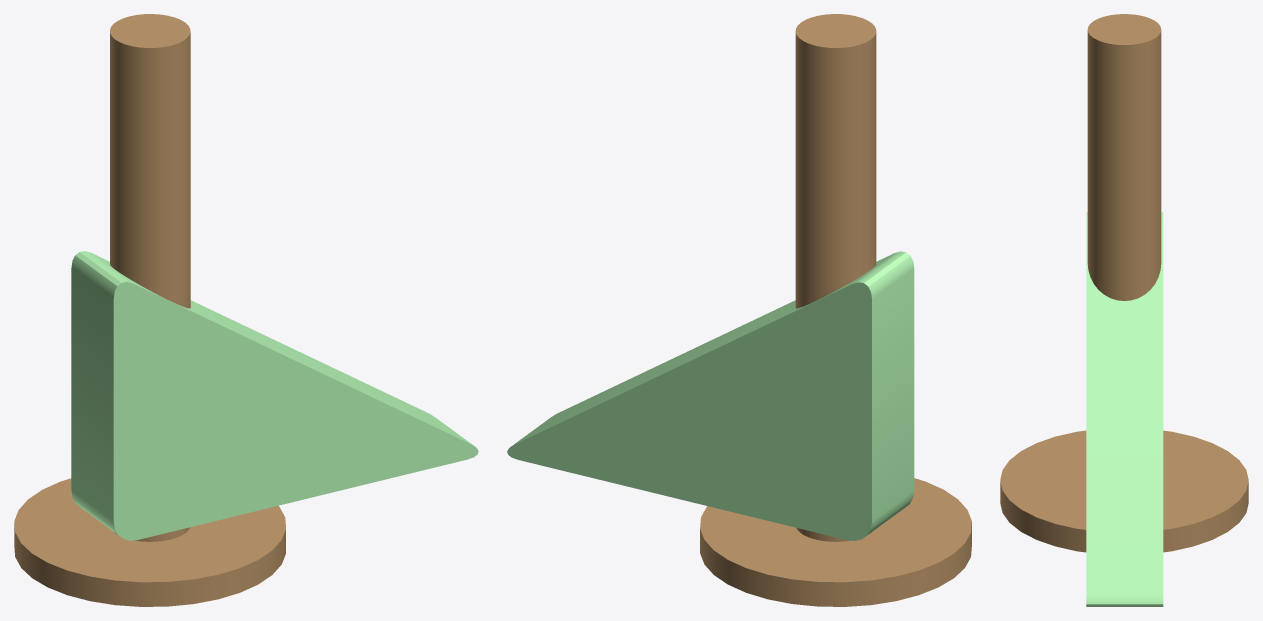
Rendered from CheckPoint.fbx.
3 renders of one model, left to right at view 1: azimuth 30°, elevation 25°; view 2: azimuth 150°, elevation 25°; view 3: azimuth 270°, elevation 25°, orthographic. The views are drawn at different scales.
Visible parts, largest first — view 1: Cylinder.001, Cylinder; view 2: Cylinder.001, Cylinder; view 3: Cylinder, Cylinder.001.
Boxes of the visible parts, x1=… form: Cylinder.001: x1=71, y1=251, x2=478, y2=540; Cylinder: x1=14, y1=14, x2=285, y2=606; Cylinder.001: x1=507, y1=251, x2=914, y2=540; Cylinder: x1=700, y1=14, x2=971, y2=606; Cylinder: x1=1000, y1=14, x2=1248, y2=552; Cylinder.001: x1=1086, y1=212, x2=1163, y2=606.
Size of the model in its own units: 180 by 210 by 100.
